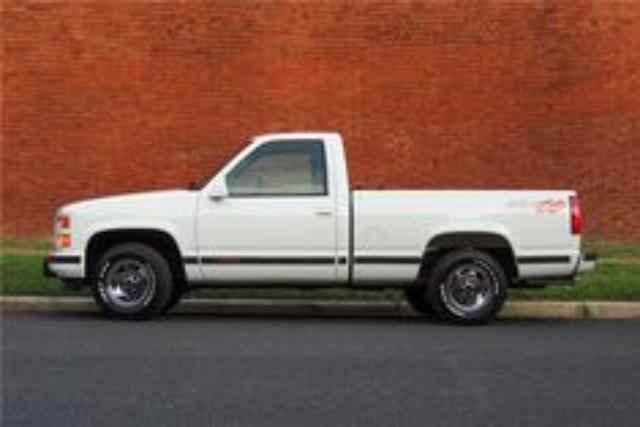pickup-truck: (42, 131, 584, 327)
